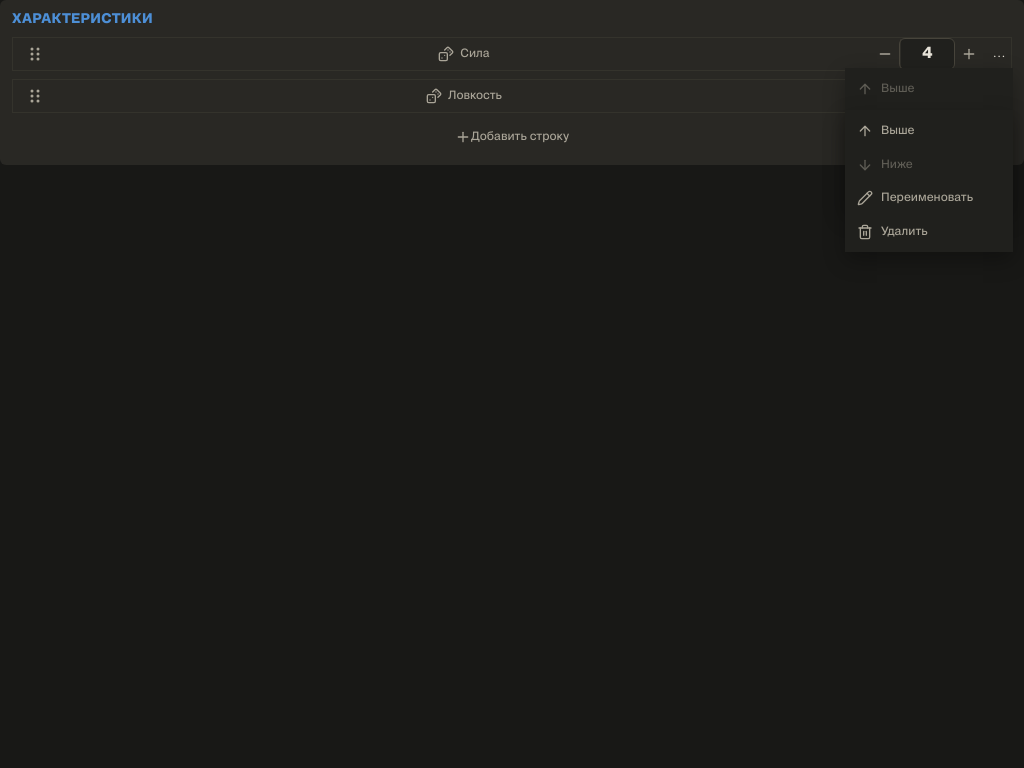
Test case: карточка группы характеристик › не выдаёт обычную ошибку за ссылку на строку
The image size is (1024, 768).
Click the button with aria-label "Удалить «Ловкость»" at (929,231), box [849, 215, 1009, 248]
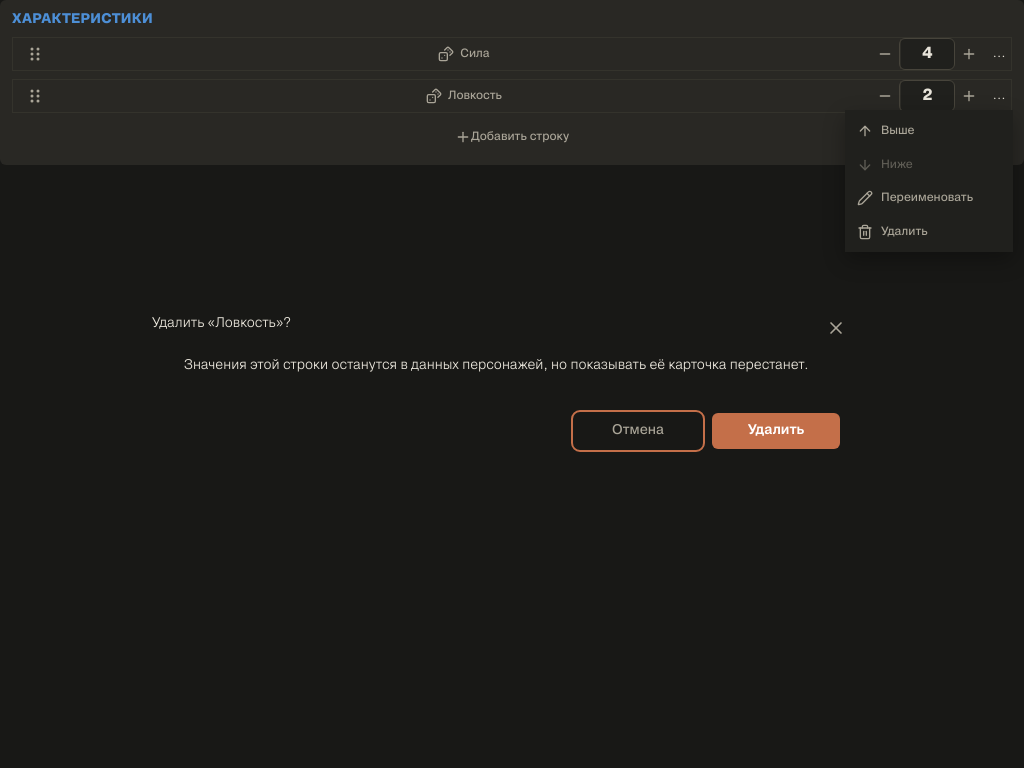
Click the button "Удалить" at (776,430), box [712, 412, 840, 448]
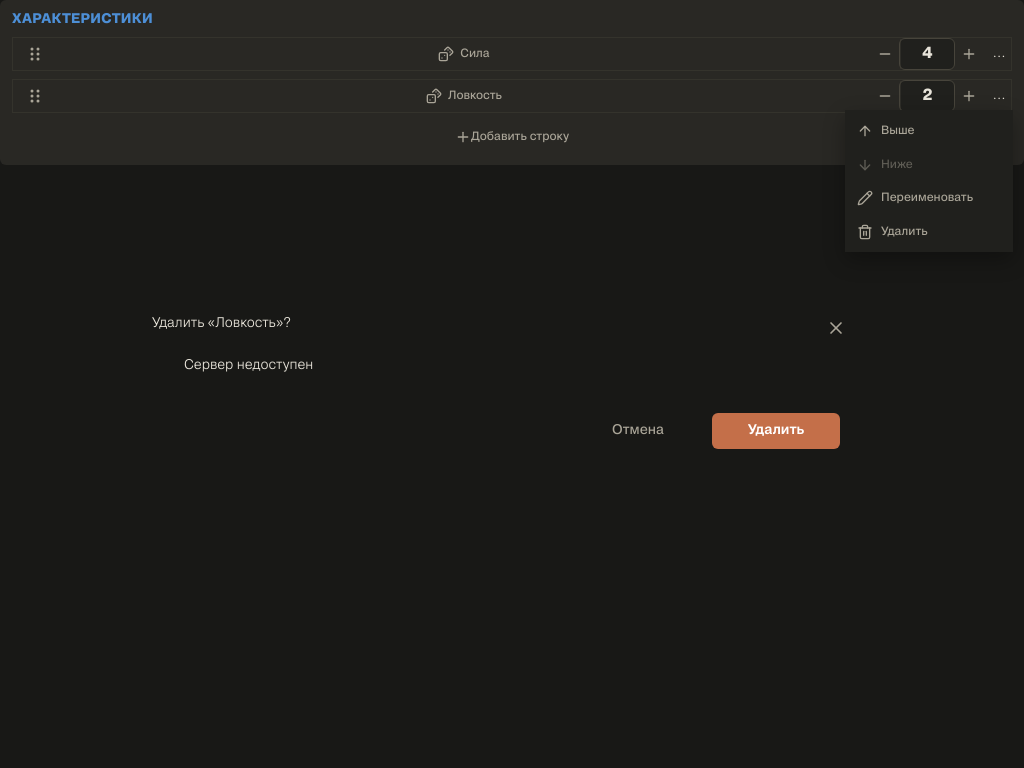
Check: the text "Сервер недоступен" is shown, box [184, 358, 313, 372]
